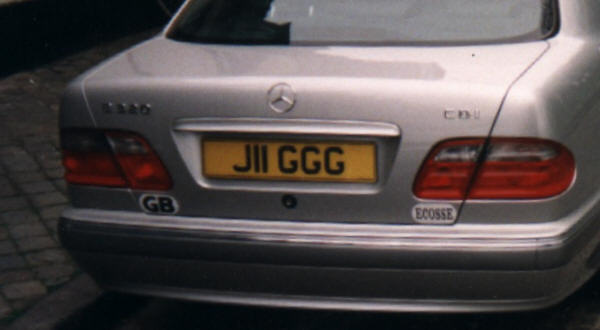license_plate: (202, 138, 379, 182)
